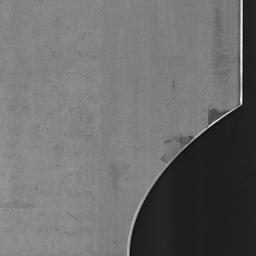Crescent gap: (130, 104, 243, 256)
